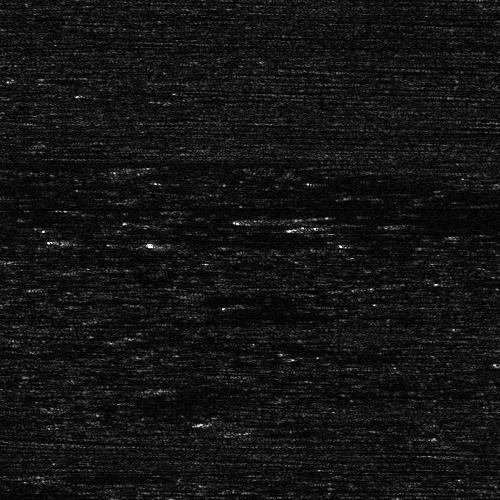rock: (242, 209, 347, 226), (285, 218, 390, 235), (150, 492, 233, 500), (166, 420, 239, 425), (29, 474, 50, 479), (51, 238, 82, 241), (485, 360, 500, 365)
shadow: (295, 209, 500, 226), (338, 218, 500, 235), (0, 158, 299, 163), (192, 492, 357, 500), (0, 349, 157, 356), (203, 420, 365, 425), (0, 150, 112, 155), (40, 474, 119, 479), (67, 238, 144, 241)
